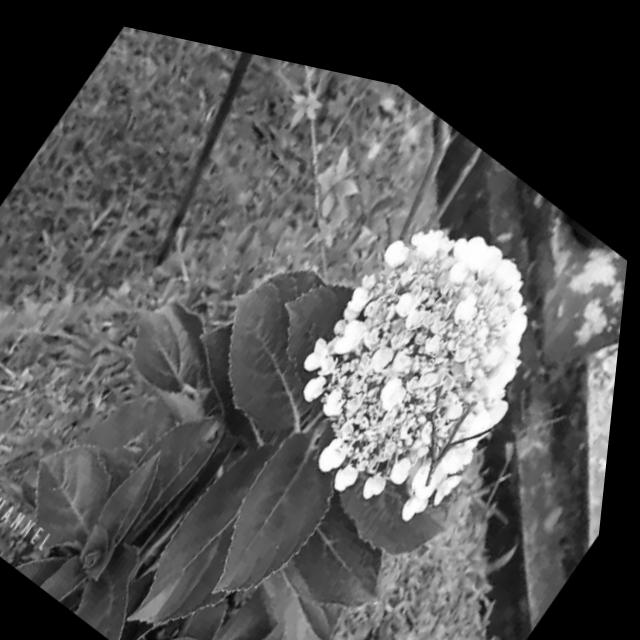Flower: (252, 133, 600, 557)
